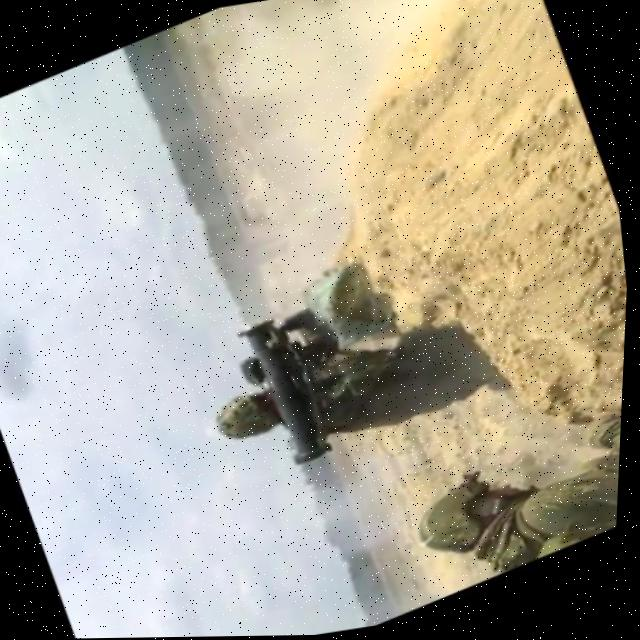rocket: (223, 304, 349, 482)
